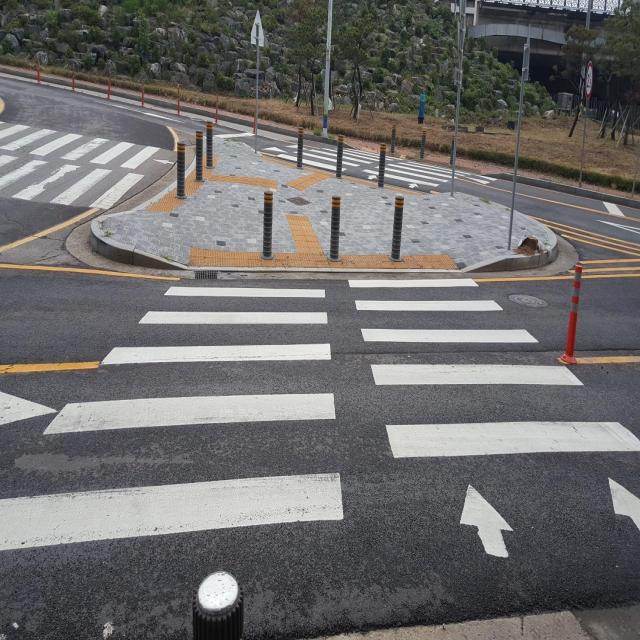횡단보도: (0, 274, 640, 562), (0, 118, 160, 213), (278, 144, 488, 196)
